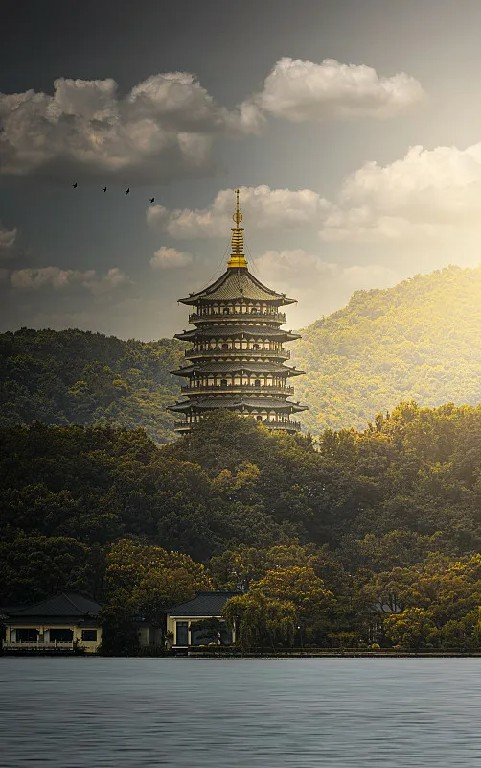Leifeng: (169, 185, 310, 438)
